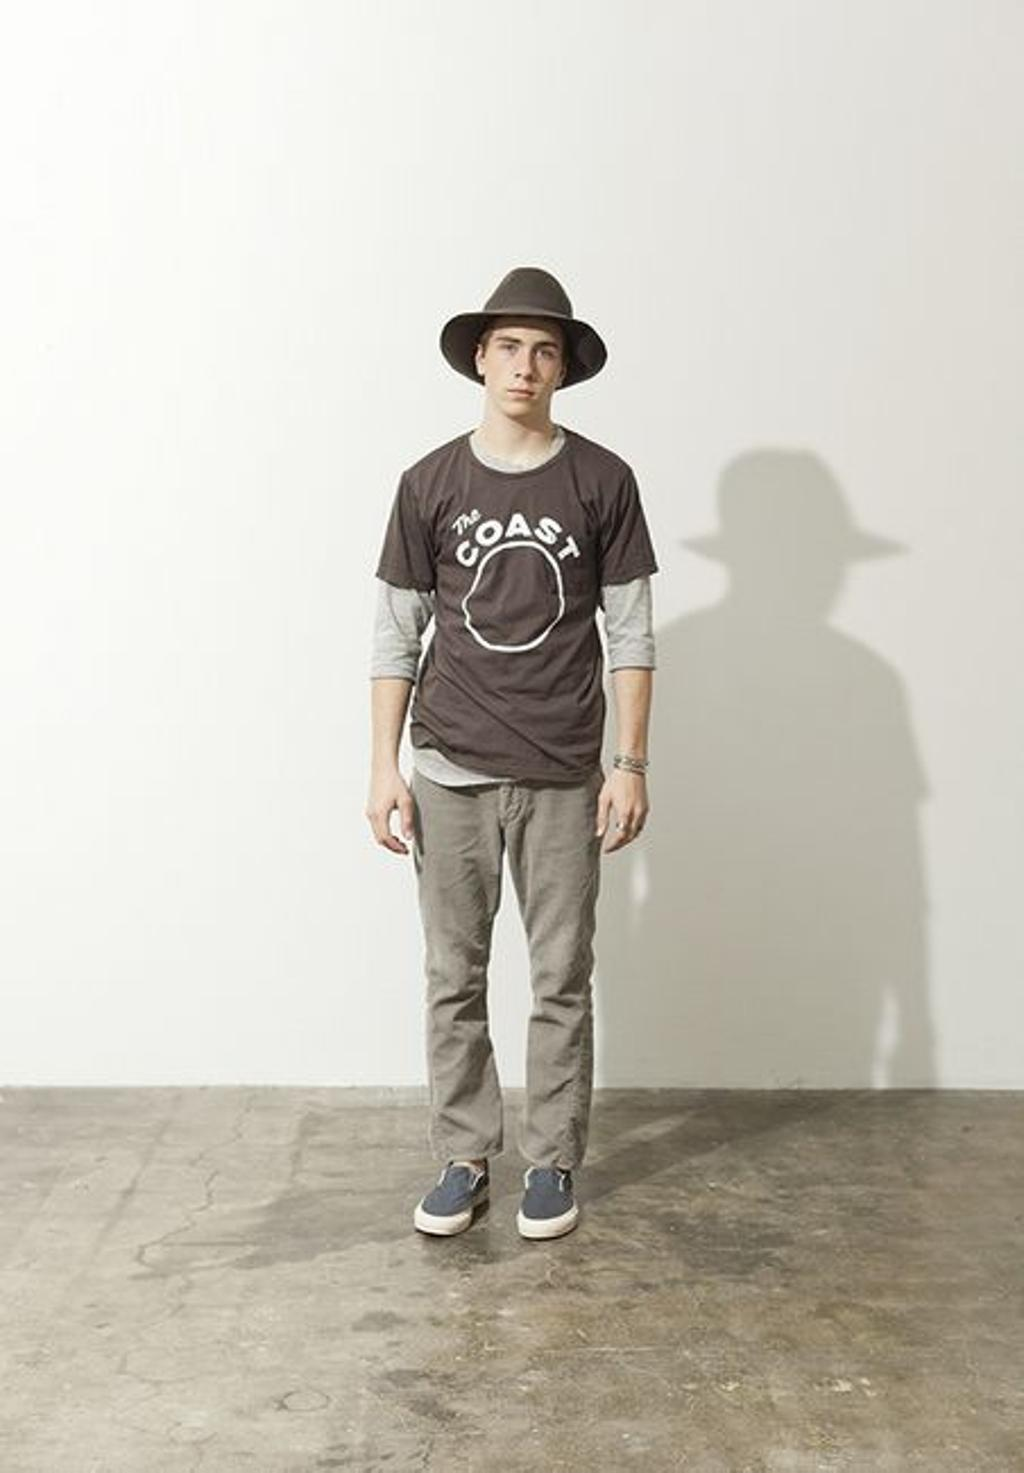face: (484, 306, 556, 415)
